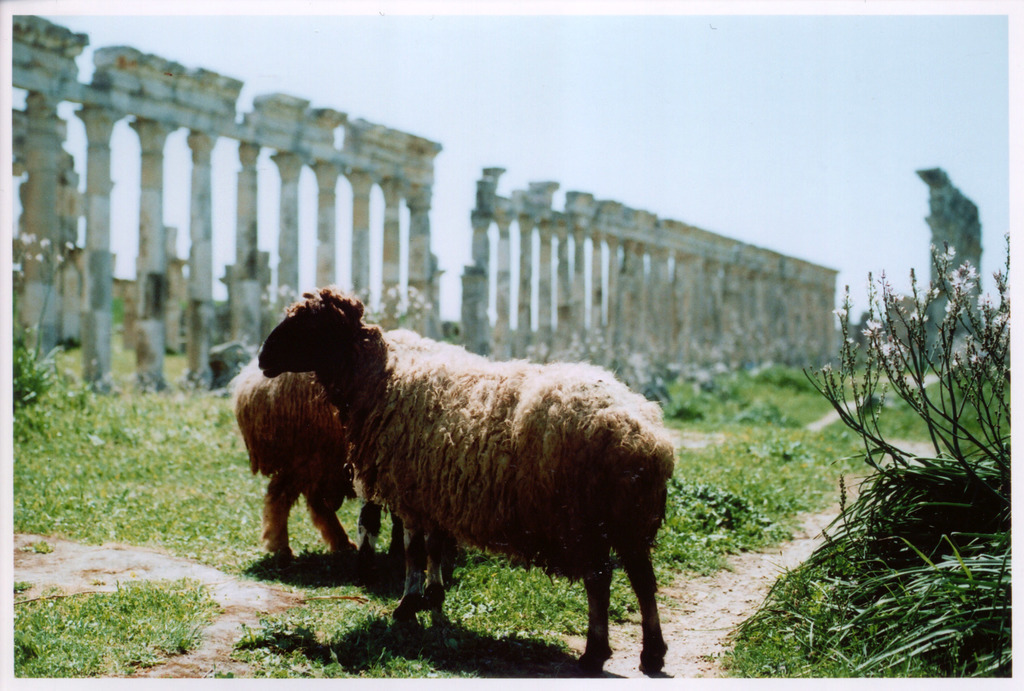sheep: (256, 286, 675, 683)
